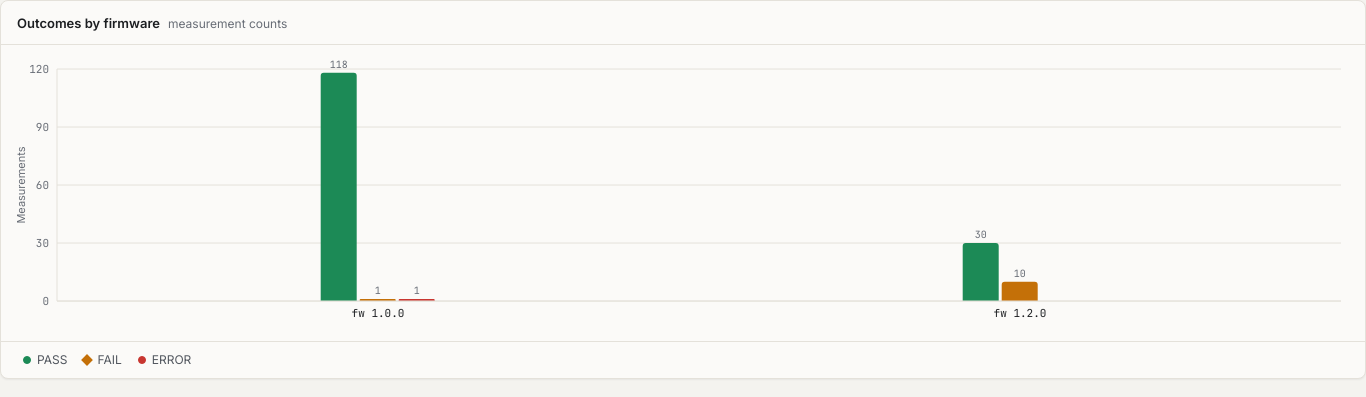
Scenario: bar charts › FirmwareOutcomeChart has PASS/FAIL/ERROR toggles
Click the button "ERROR".
click(165, 360)  # box [132,348,197,372]
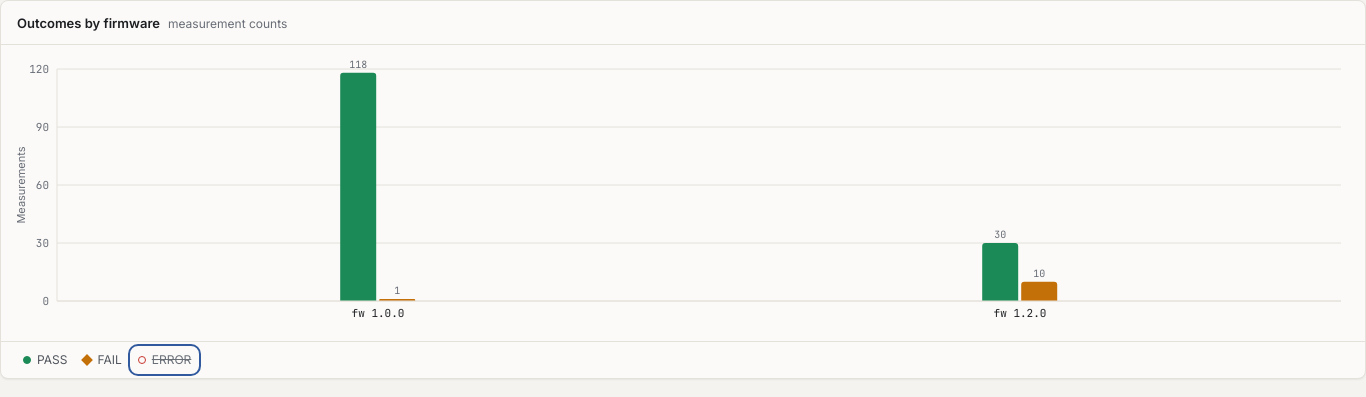
Result: the button "ERROR" is not pressed at [132,348,197,372]
